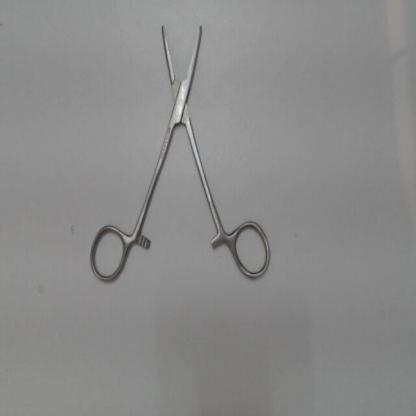Mayo Needle Holder: (84, 6, 278, 287)
